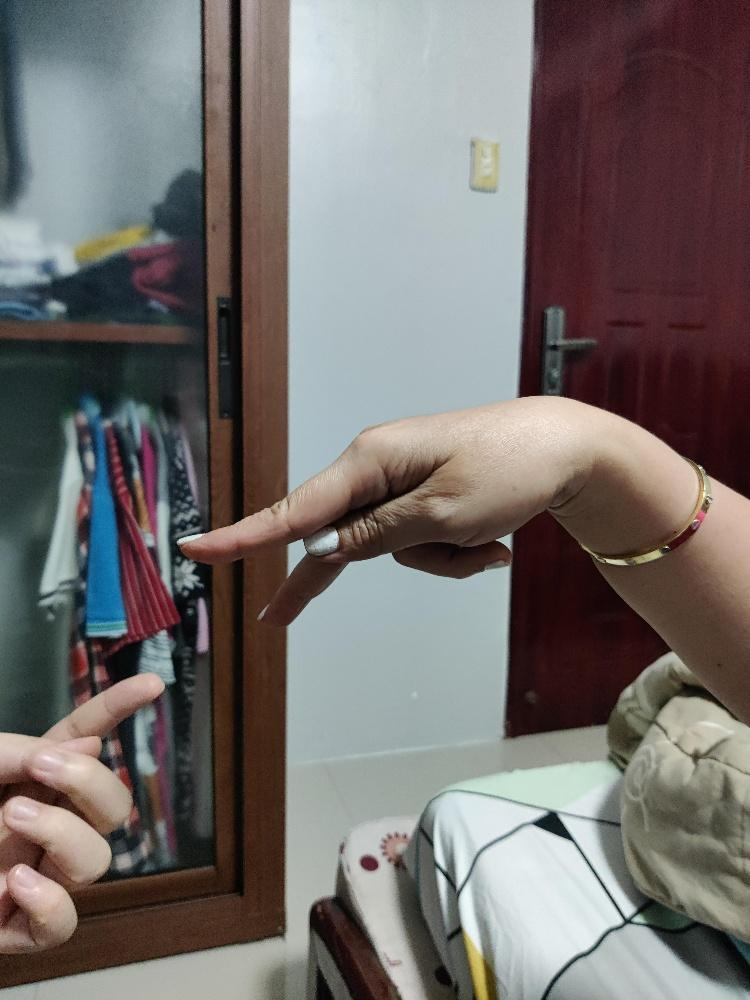p: (176, 393, 589, 633)
